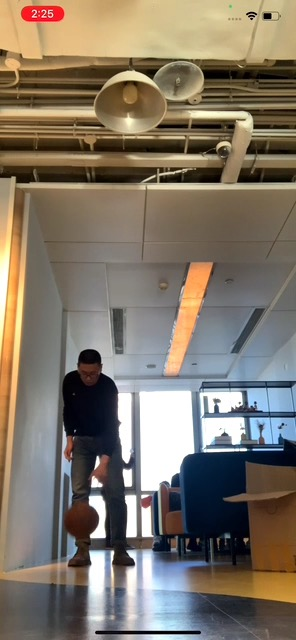ball: (65, 502, 99, 538)
